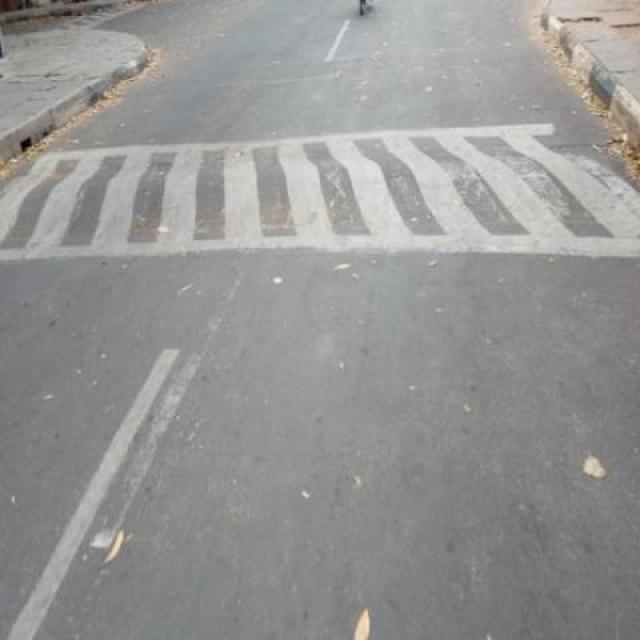Speed Bump: (1, 118, 639, 264)
